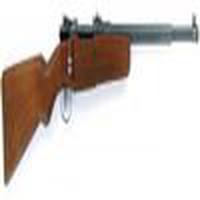gun: (3, 17, 200, 163)
